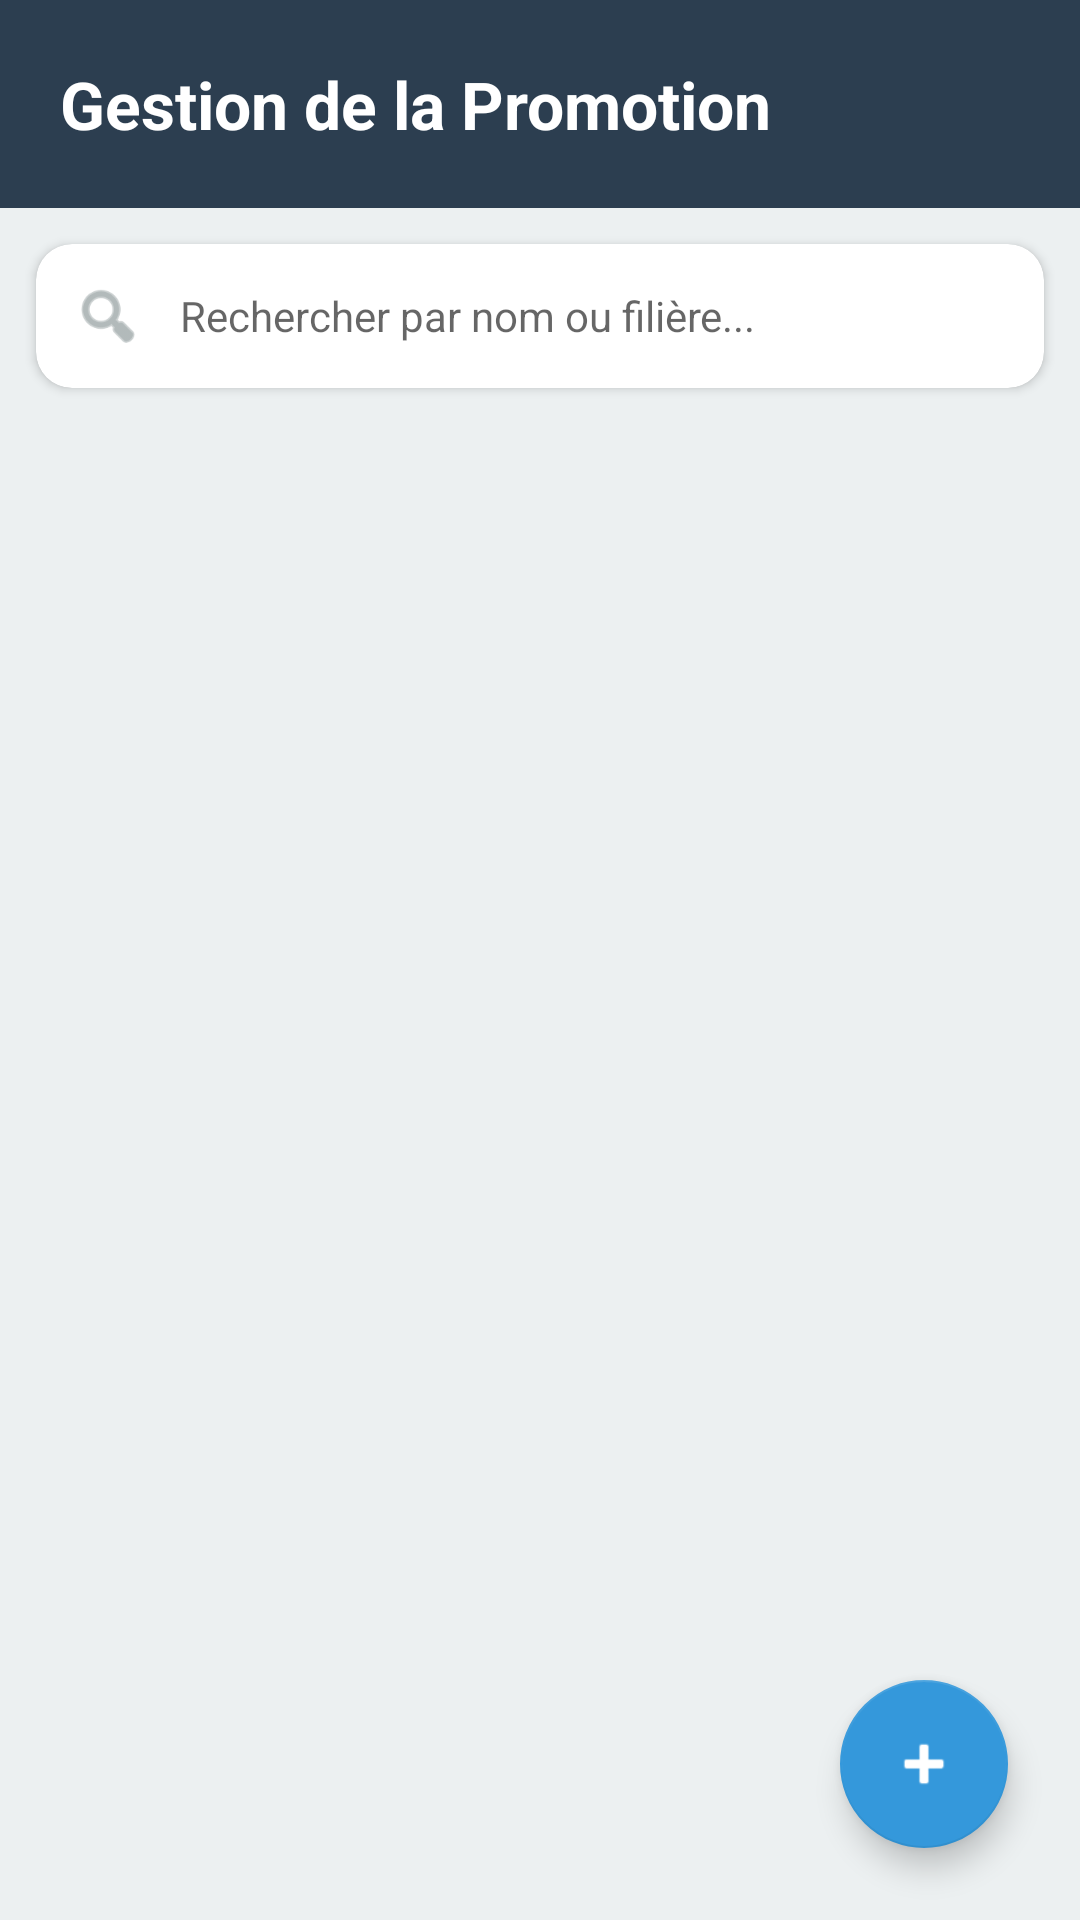

Where to tap for icons on this 1080 × 1920 app screen, as (x=x, y=y):
Ajouter un étudiant: (x=924, y=1764)
search: (x=108, y=316)
